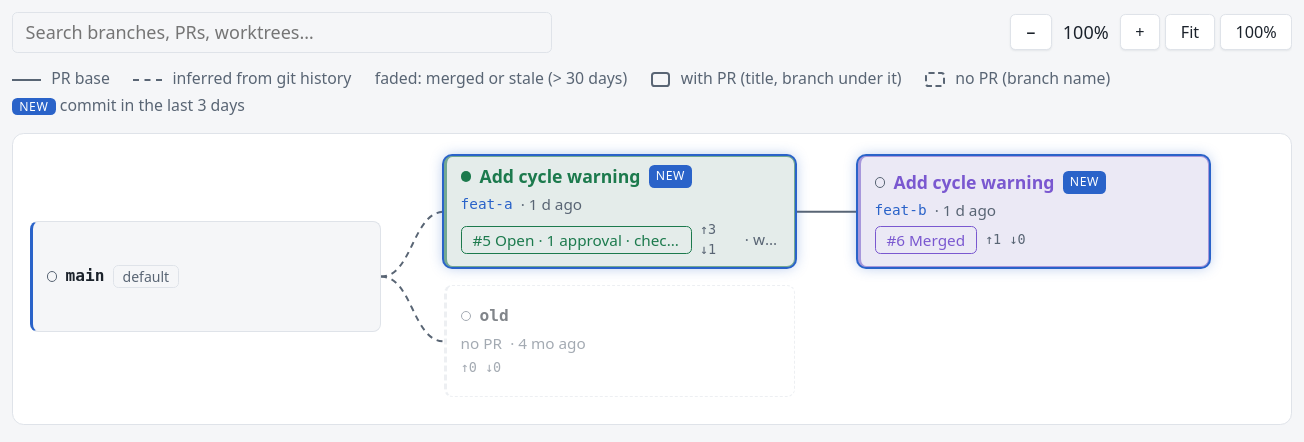
Test: BranchGraph › search › highlights matches and dims the rest
Step 1. Type "feat-b" into the search field with placeholder "Search branches, PRs, worktrees…" → (282, 32), box [12, 12, 552, 52]
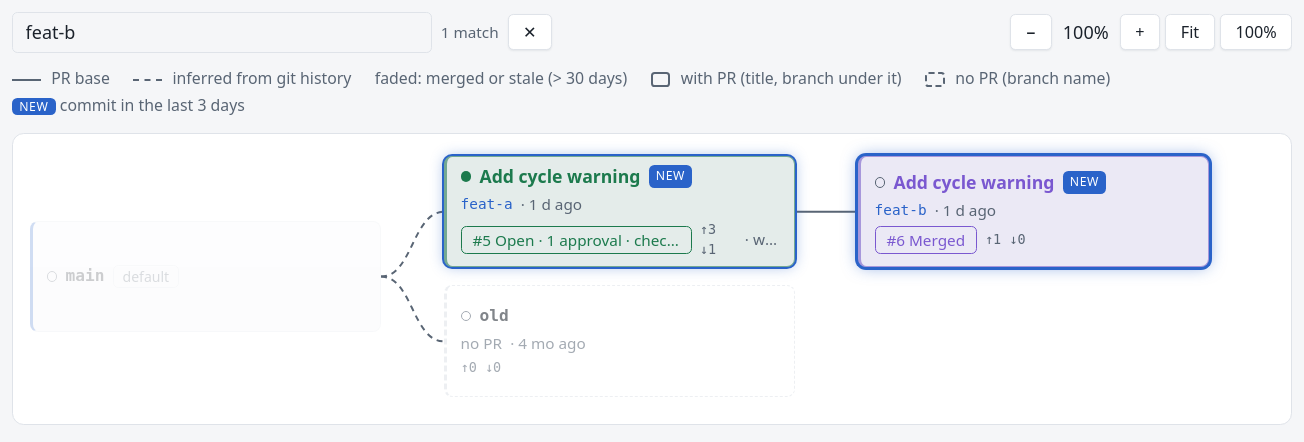
Now the text "1 match" is shown, box [441, 21, 499, 44]
